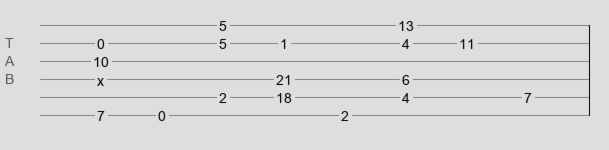0: (97, 36, 105, 46), (158, 108, 166, 118)
1: (280, 36, 288, 46)
10: (93, 54, 109, 64)
11: (459, 36, 475, 46)
13: (398, 18, 414, 28)
18: (276, 90, 292, 100)
2: (219, 90, 227, 100), (341, 108, 349, 118)
21: (276, 72, 292, 82)
4: (402, 90, 410, 100), (402, 36, 410, 46)
5: (219, 18, 227, 28), (219, 36, 227, 46)
6: (402, 72, 410, 82)
7: (97, 108, 105, 118), (524, 90, 532, 100)
x: (97, 73, 104, 81)
